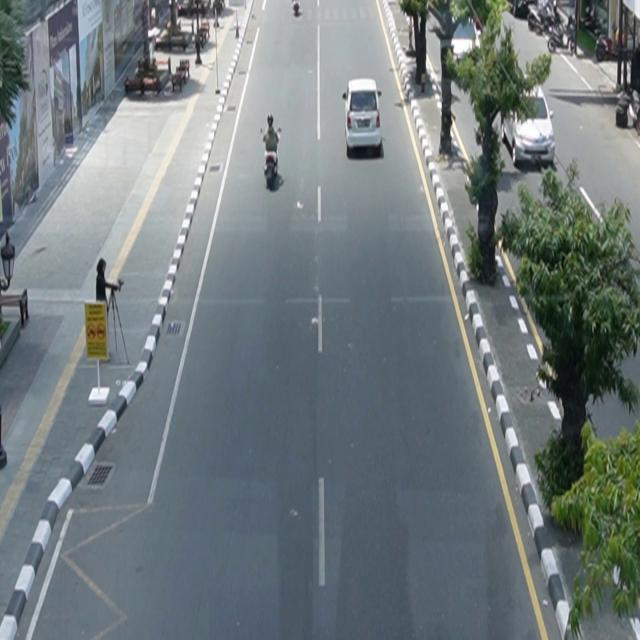car: (503, 83, 556, 169), (343, 79, 383, 155)
